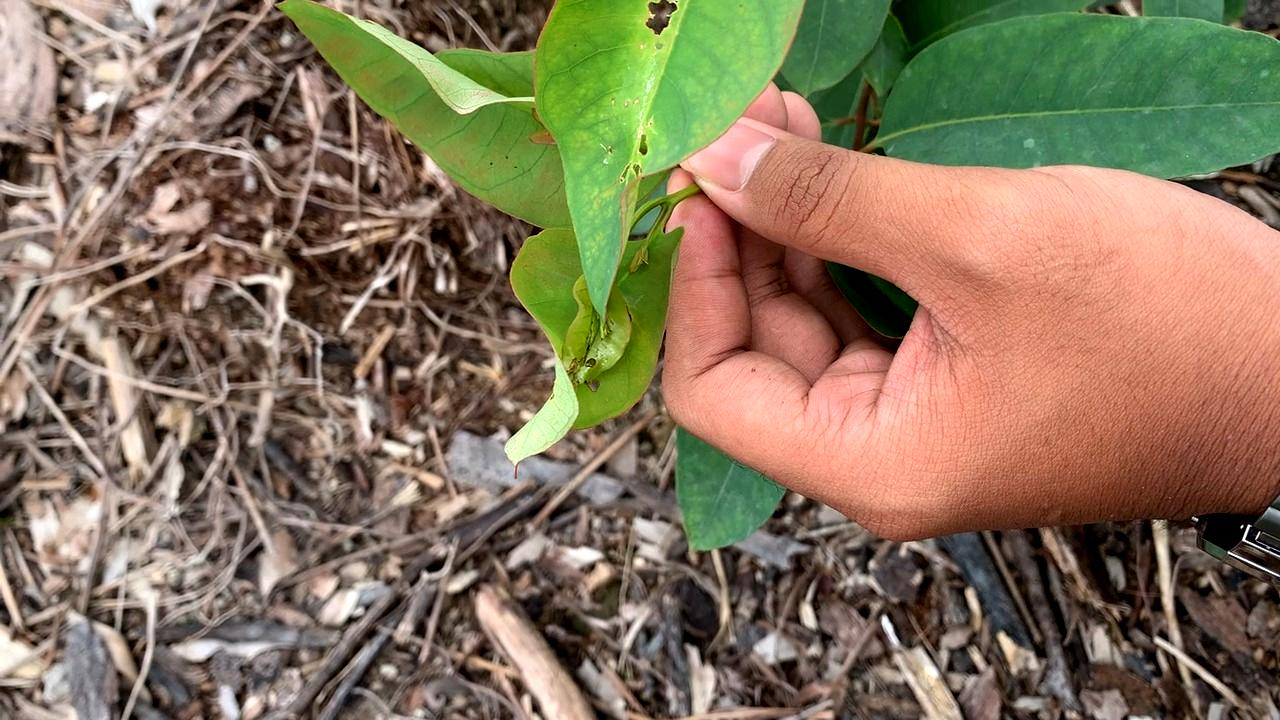Leaf Roller - Leaf: (554, 277, 639, 396)
